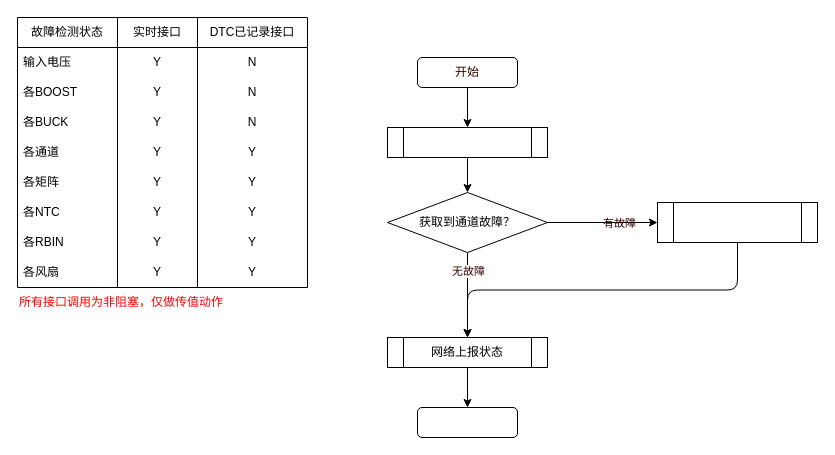
This 835x455 diagram has some shape labels left out. Each missing label, with the centre of its shape:
"开灯" goes at point 467,142.
"按要求处理故障通道，持续2S" goes at point 737,222.
"结束" goes at point 467,422.
